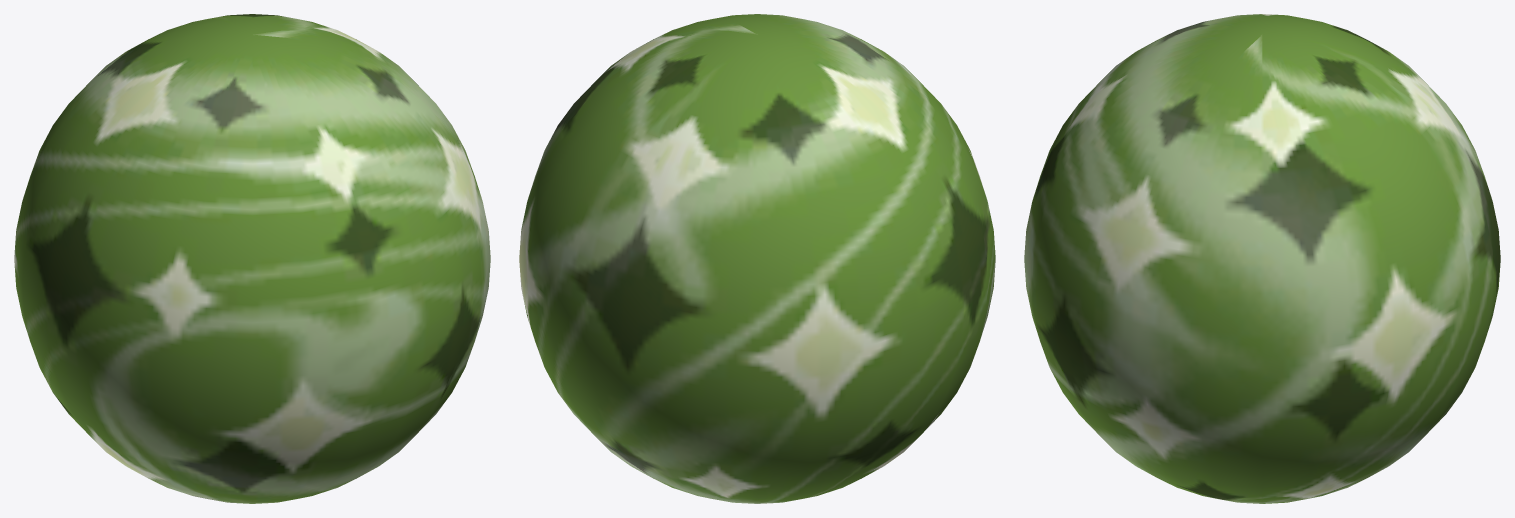
Rendered from bwg_ball_pro__bwg_ball_green_pro_mirror.glb.
3 renders of one model, left to right at view 1: azimuth 30°, elevation 25°; view 2: azimuth 150°, elevation 25°; view 3: azimuth 270°, elevation 25°, orthographic.
Parts seen in each view (by area): view 1: polygon0; view 2: polygon0; view 3: polygon0.
Part boxes in pixels (<box>): polygon0: <box>14,14,490,503</box>; polygon0: <box>519,14,995,503</box>; polygon0: <box>1024,14,1500,503</box>.
Bounding box in the file's own units: 2.18 × 2.26 × 2.18.
1 material, 1 textured.
